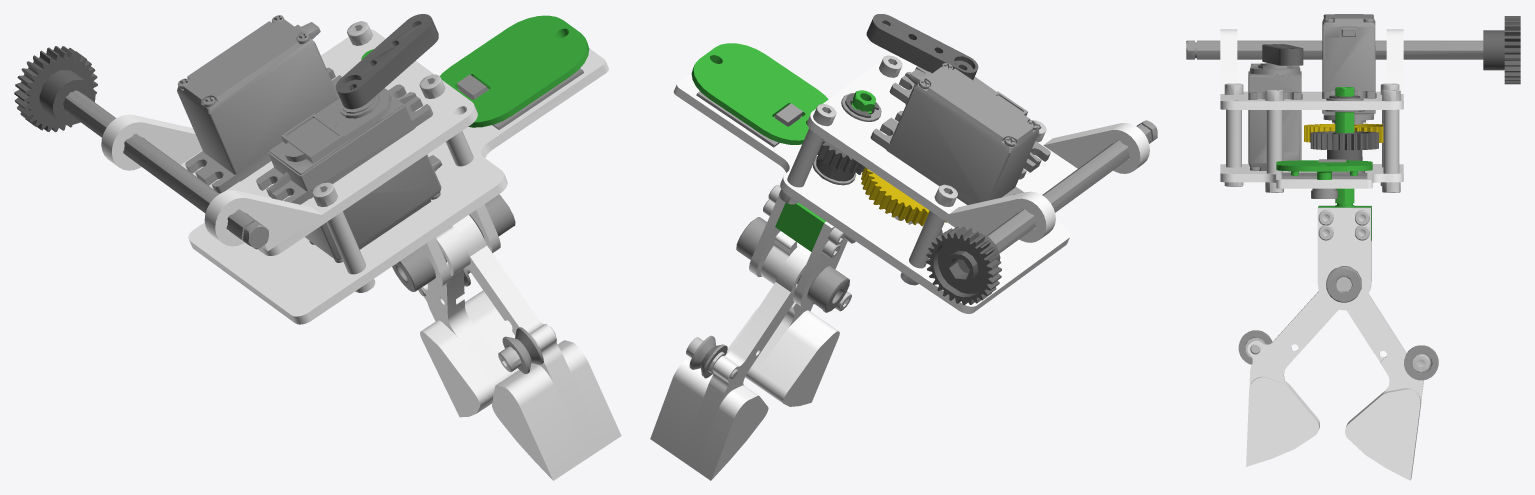
File: 2901Robot_Claw.glb
3 renders of one model, left to right at view 1: azimuth 30°, elevation 25°; view 2: azimuth 150°, elevation 25°; view 3: azimuth 270°, elevation 25°, orthographic. The views are drawn at different scales.
Parts seen in each view (by area): view 1: mesh.001; view 2: mesh.001; view 3: mesh.001.
Part boxes in pixels (bbox=[...]): mesh.001: bbox=[14, 14, 621, 480]; mesh.001: bbox=[650, 14, 1157, 480]; mesh.001: bbox=[1186, 14, 1520, 480].
Size of the model in its own units: 0.1547 by 0.1602 by 0.1251.
1 material, 1 textured.
